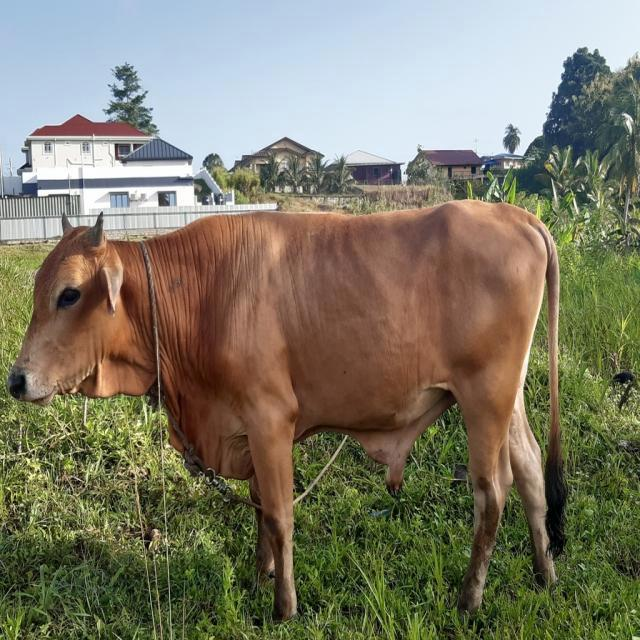cow: (9, 201, 566, 618)
